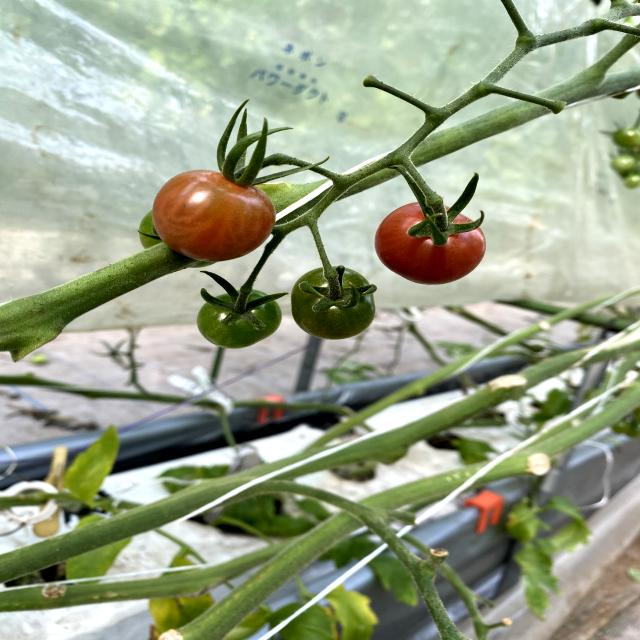ripe0: (293, 265, 378, 340), (198, 287, 280, 348)
ripe2: (151, 171, 276, 263), (377, 199, 485, 285)
